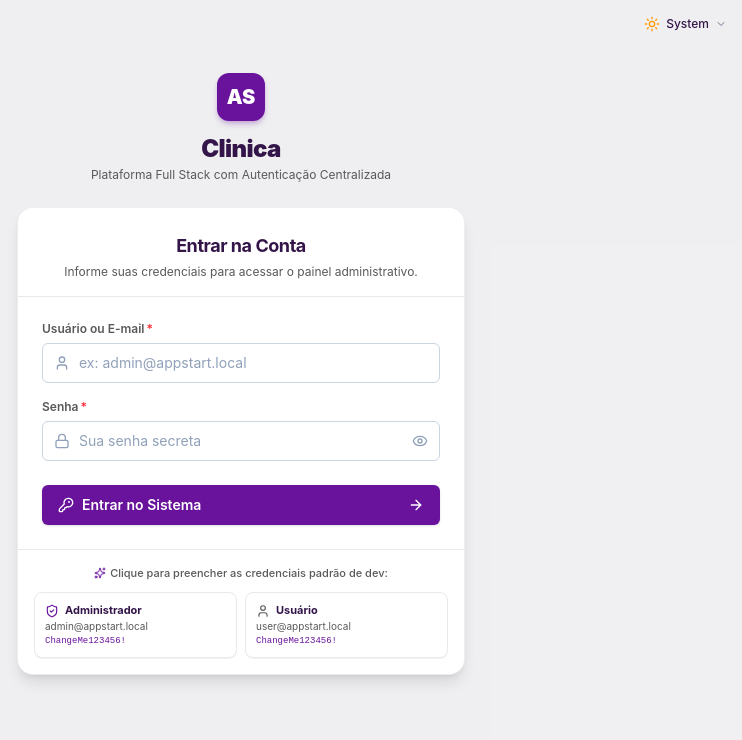
Test case: LoginPage › displays error feedback when credentials are rejected
The width and height of the screenshot is (742, 740).
Type "wronguser" into the field with placeholder "ex: admin@appstart.local" at (241, 363), box [42, 343, 440, 383]
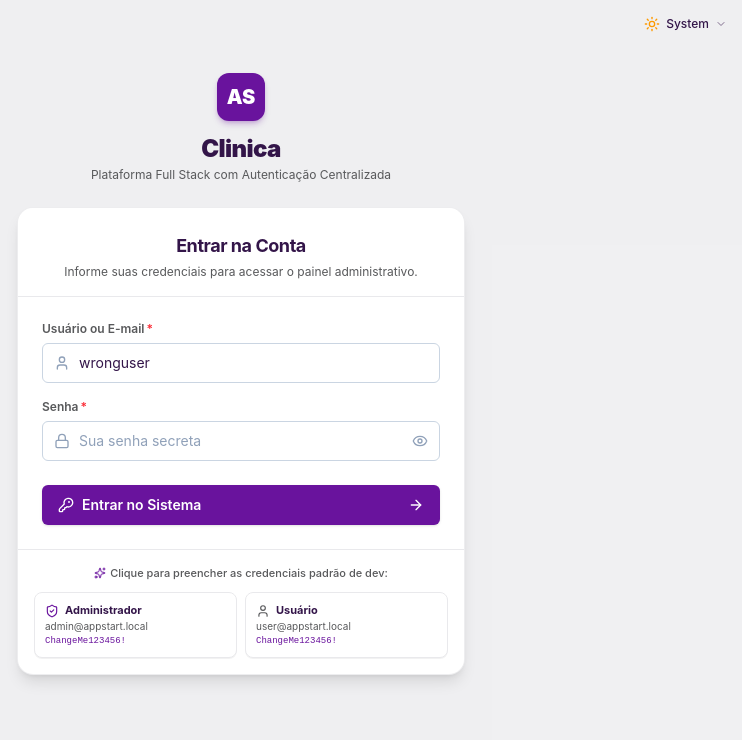
Type "wrongpass" into the password field with placeholder "Sua senha secreta" at (241, 441), box [42, 421, 440, 461]
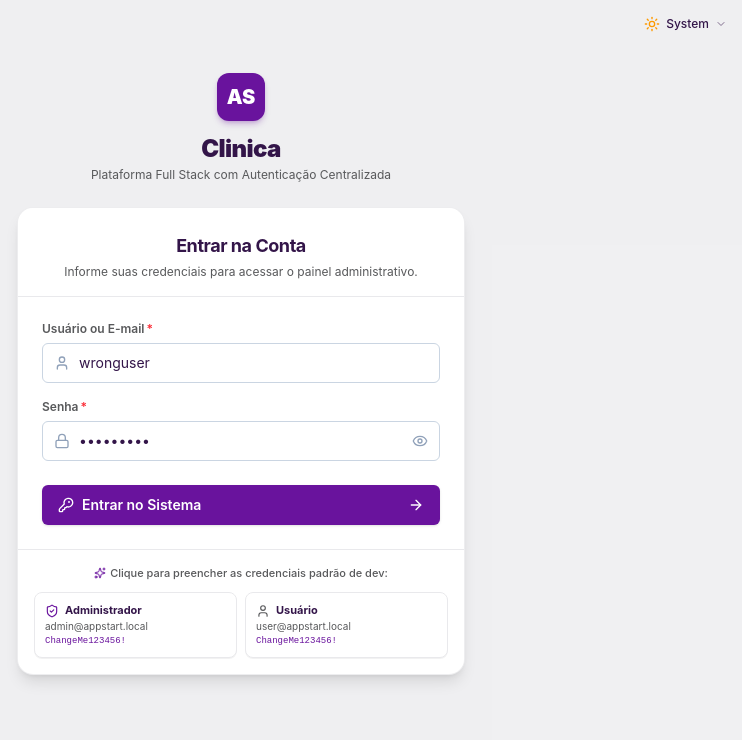
Click the button "Entrar no Sistema" at (142, 504), box [42, 485, 440, 525]
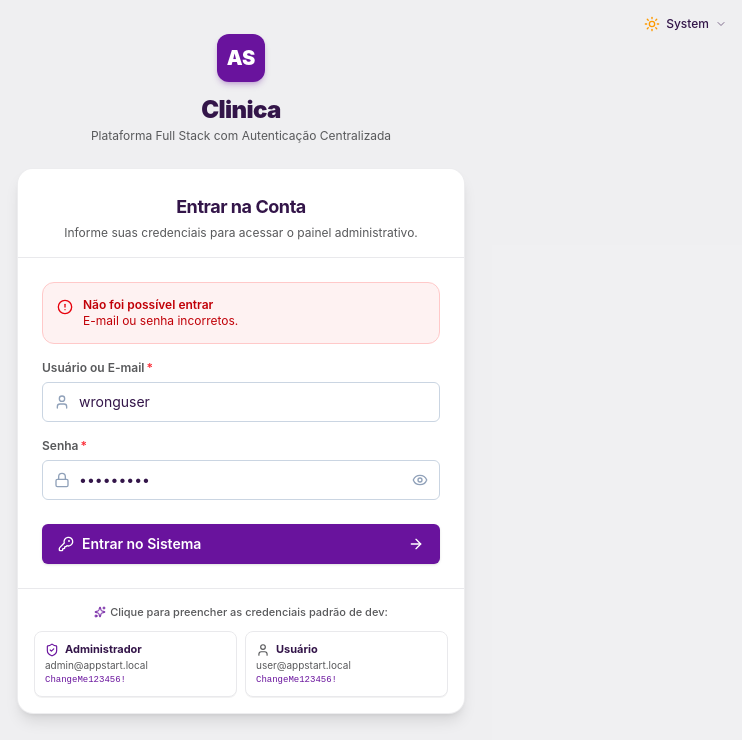
Check: the text "E-mail ou senha incorretos." is shown, box [83, 313, 238, 328]
